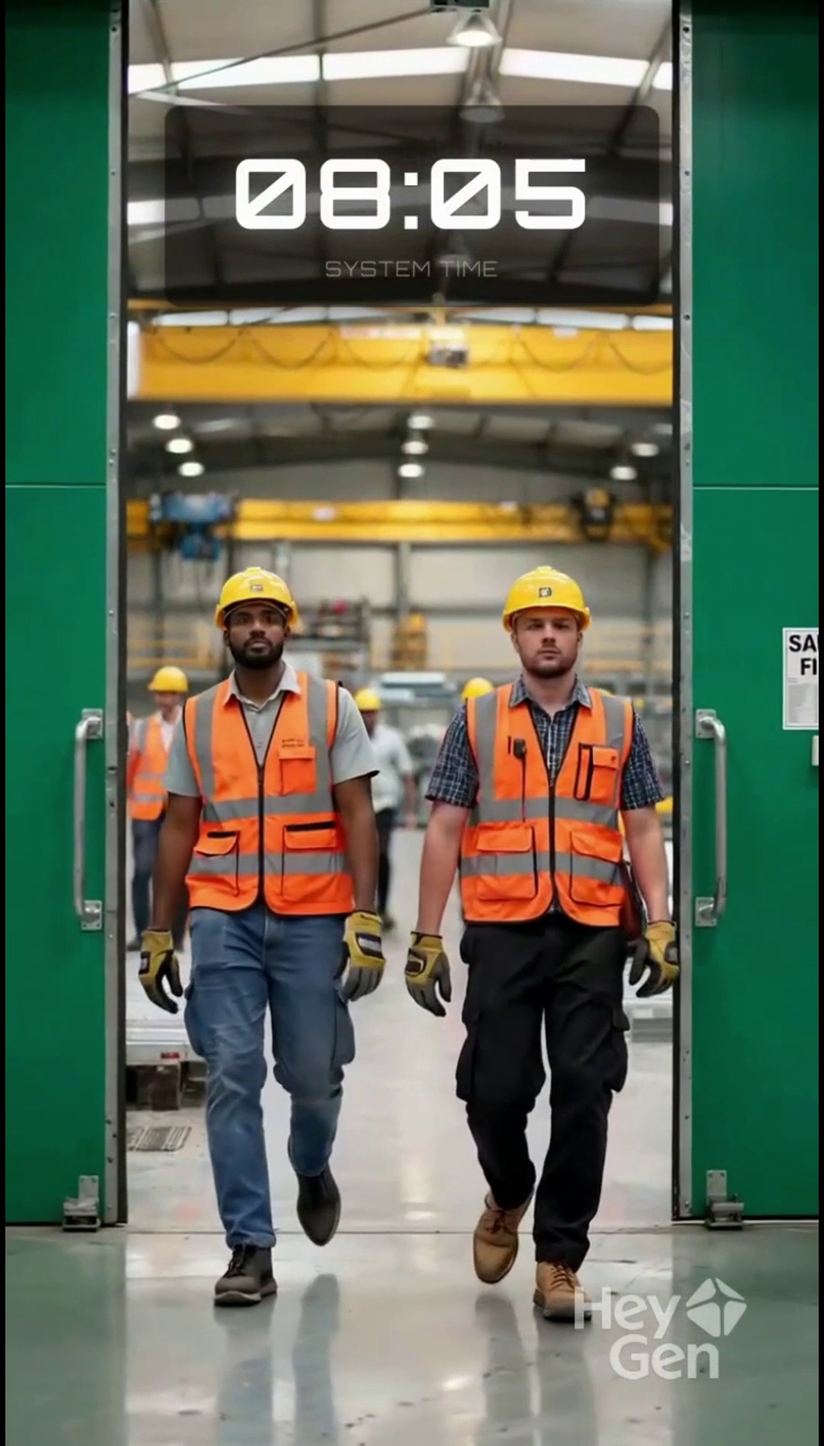Amir: (495, 557, 616, 707)
Sami: (204, 563, 335, 697)
employe: (152, 509, 371, 1313), (459, 530, 644, 1323)
porte_verte: (10, 0, 824, 1223)
temp: (166, 109, 672, 300)
